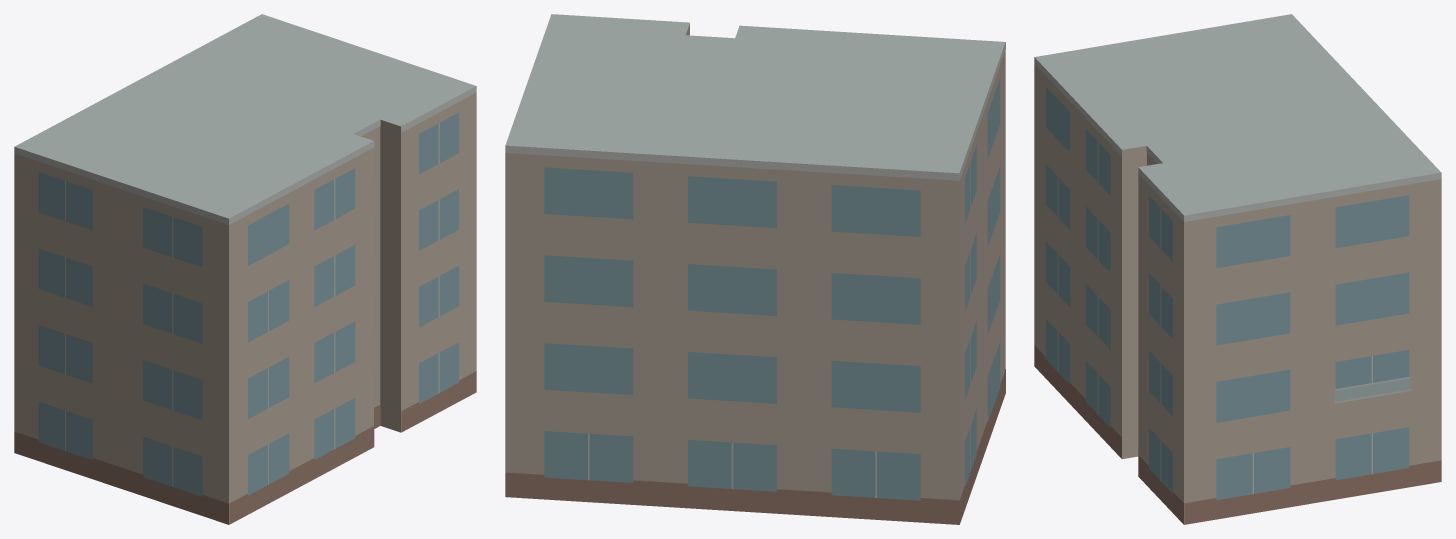
Rendered from survey-upis-32851301.glb.
The picture shows the model from 3 angles, left to right: view 1: azimuth 30°, elevation 25°; view 2: azimuth 150°, elevation 25°; view 3: azimuth 270°, elevation 25°; orthographic projection. The views are drawn at different scales.
Visible parts, largest first — view 1: survey-upis-32851301.tmp; view 2: survey-upis-32851301.tmp; view 3: survey-upis-32851301.tmp.
Boxes of the visible parts, x1=… form: survey-upis-32851301.tmp: x1=14, y1=14, x2=476, y2=524; survey-upis-32851301.tmp: x1=505, y1=14, x2=1005, y2=524; survey-upis-32851301.tmp: x1=1034, y1=14, x2=1441, y2=524.
Size of the model in its own units: 16.22 by 11.6 by 13.85.
